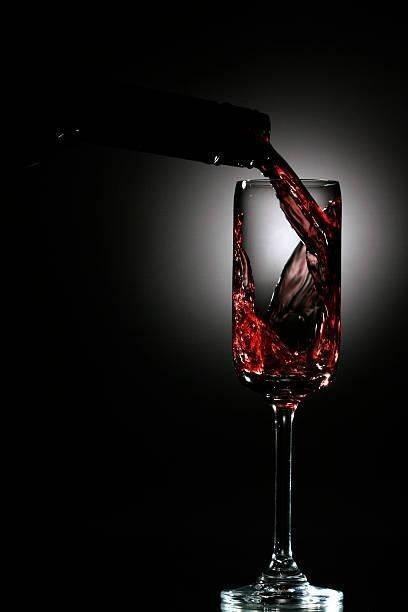glass-wine: (220, 171, 352, 612)
